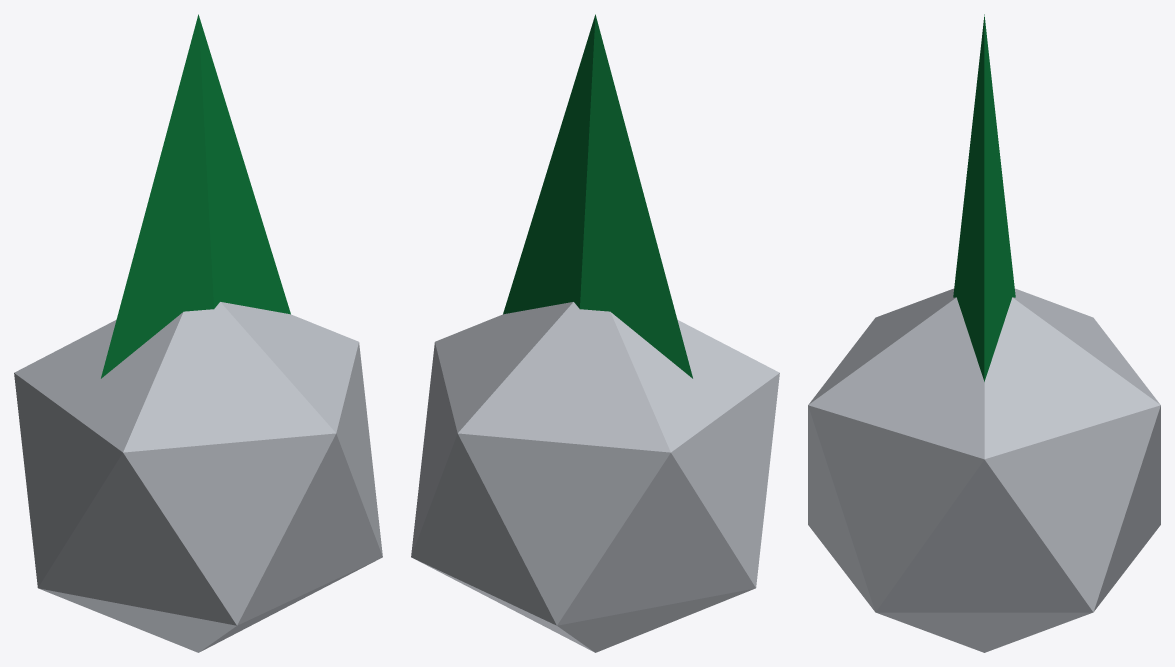
File: Item_OR_Herb_07.glb
The picture shows the model from 3 angles, left to right: view 1: azimuth 30°, elevation 25°; view 2: azimuth 150°, elevation 25°; view 3: azimuth 270°, elevation 25°; orthographic projection.
Parts seen in each view (by area): view 1: Item_OR_Herb_07; view 2: Item_OR_Herb_07; view 3: Item_OR_Herb_07.
Part boxes in pixels (bbox=[...]): Item_OR_Herb_07: bbox=[14, 14, 382, 652]; Item_OR_Herb_07: bbox=[411, 14, 779, 652]; Item_OR_Herb_07: bbox=[808, 14, 1160, 652].
Bounding box in the file's own units: 0.0894 × 0.17 × 0.0851.
